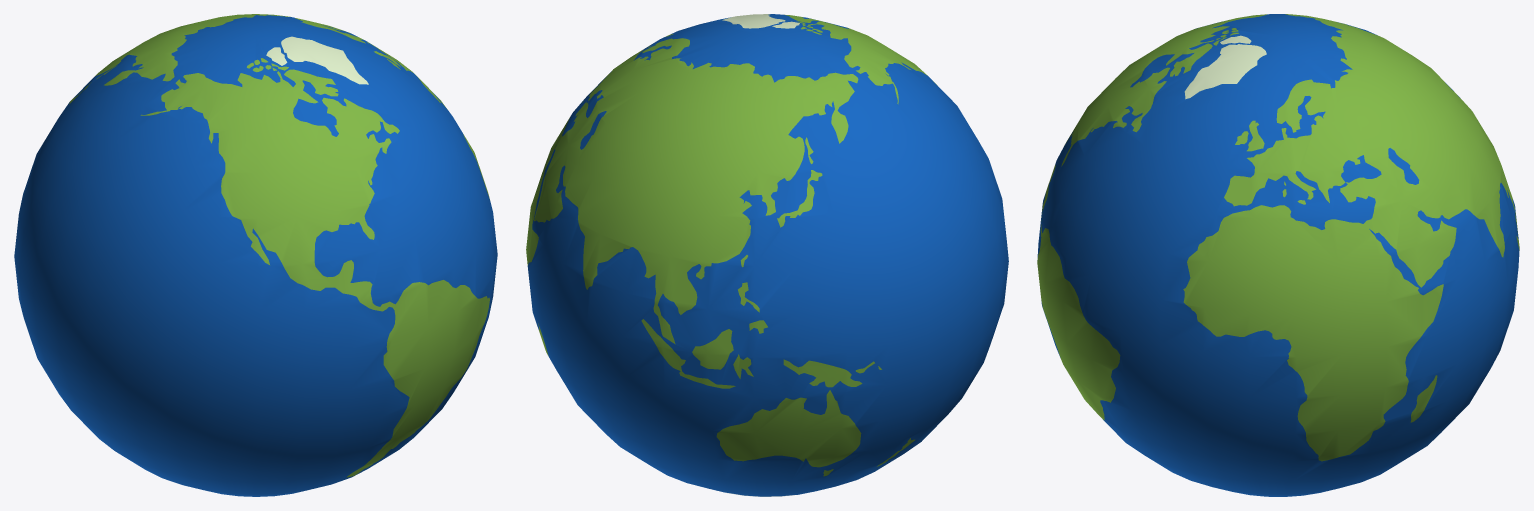
The model's file is globe_showing_americas.glb.
The picture shows the model from 3 angles, left to right: view 1: azimuth 30°, elevation 25°; view 2: azimuth 150°, elevation 25°; view 3: azimuth 270°, elevation 25°; orthographic projection.
Parts seen in each view (by area): view 1: Sphere.393; view 2: Sphere.393; view 3: Sphere.393.
Part boxes in pixels (bbox=[...]): Sphere.393: bbox=[14, 14, 497, 496]; Sphere.393: bbox=[526, 14, 1008, 496]; Sphere.393: bbox=[1037, 14, 1519, 496].
Bounding box in the file's own units: 1.99 × 2 × 1.99.
1 material, 1 textured.
